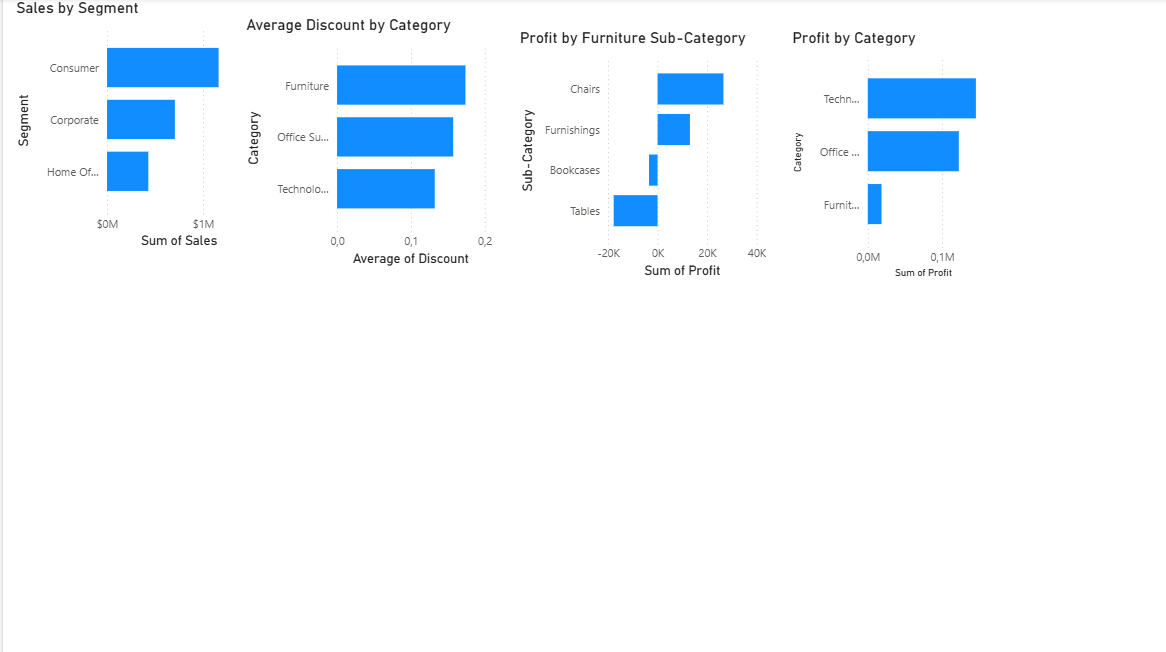

The page's visual inventory and layout, read from the dashboard file:
{"tool":"powerbi","page":{"name":"Business Insights","canvas":[1280,720],"ordinal":1},"visuals":[{"type":"clusteredBarChart","title":"Sales by Segment","fields":{"Category":["feature_engineered_superstore.Segment"],"Y":["Sum(feature_engineered_superstore.Sales)"]},"box":[10,0,280,280],"z":0},{"type":"clusteredBarChart","title":"Average Discount by Category","fields":{"Category":["feature_engineered_superstore.Category"],"Y":["Avg(feature_engineered_superstore.Discount)"]},"box":[262.1,19.2,279.9,279.9],"z":1},{"type":"clusteredBarChart","title":"Profit by Furniture Sub-Category","fields":{"Category":["feature_engineered_superstore.Sub-Category"],"Y":["Sum(feature_engineered_superstore.Profit)"]},"box":[562.6,32.9,279.9,279.9],"z":2},{"type":"clusteredBarChart","title":"Profit by Category","fields":{"Category":["feature_engineered_superstore.Category"],"Y":["Sum(feature_engineered_superstore.Profit)"]},"box":[861.8,32.9,229.2,279.9],"z":3}]}

Visuals, with their boxes in screenshot pixels (x1, y1, x2, y2), scaled from the page's 1280x720 canvas onto the 1166x652 screenshot:
"Sales by Segment" clusteredBarChart: detection(9, 0, 264, 254)
"Average Discount by Category" clusteredBarChart: detection(239, 17, 494, 271)
"Profit by Furniture Sub-Category" clusteredBarChart: detection(512, 30, 767, 283)
"Profit by Category" clusteredBarChart: detection(785, 30, 994, 283)
